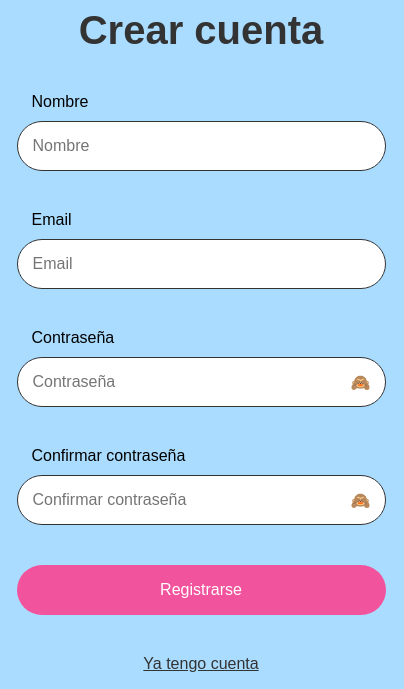
it: Auth - Register › password inválida muestra error
In the field with test id "register-name": (202, 146) [17,121,386,171], type "test"
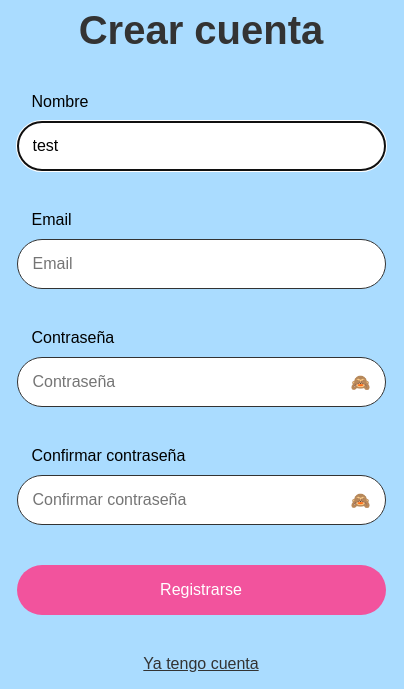
In the field with test id "register-email": (202, 264) [17,239,386,289], type "ok@mail.com"
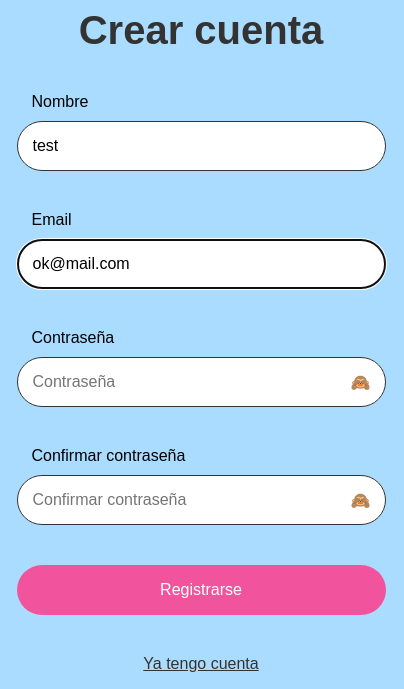
In the password field with test id "register-password": (202, 382) [17,357,386,407], type "123"
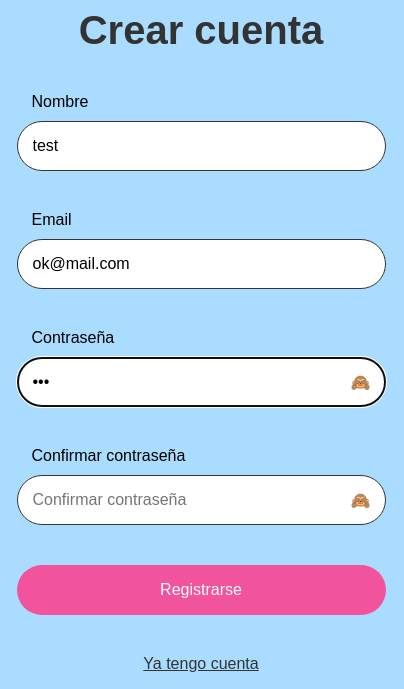
In the password field with test id "register-password2": (202, 500) [17,475,386,525], type "123"
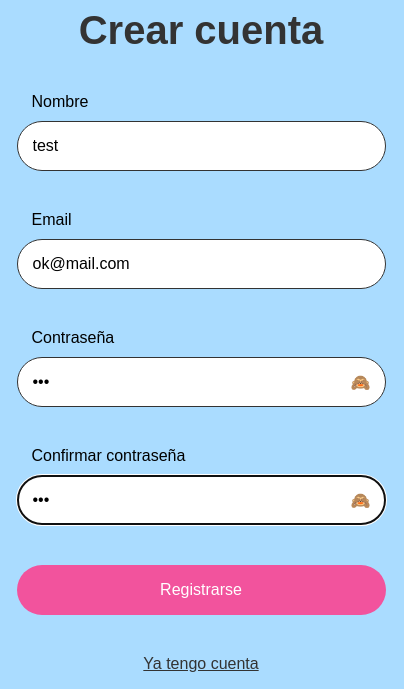
Click the button with test id "register-submit": (202, 590) [17,565,386,615]
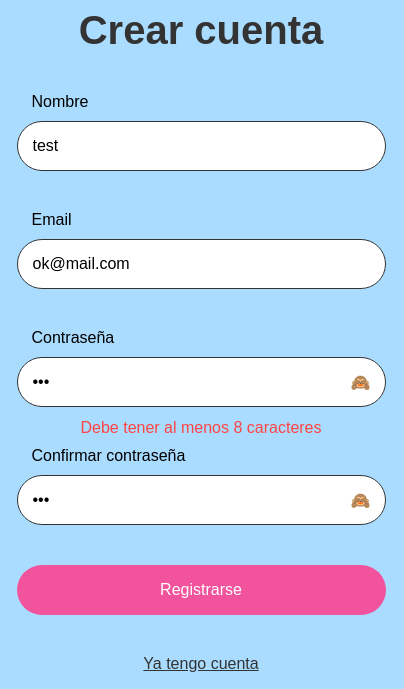
expect the text with test id "register-error-pwd" reads "Debe tener al menos 8 caracteres": met, box [80,419,321,436]
